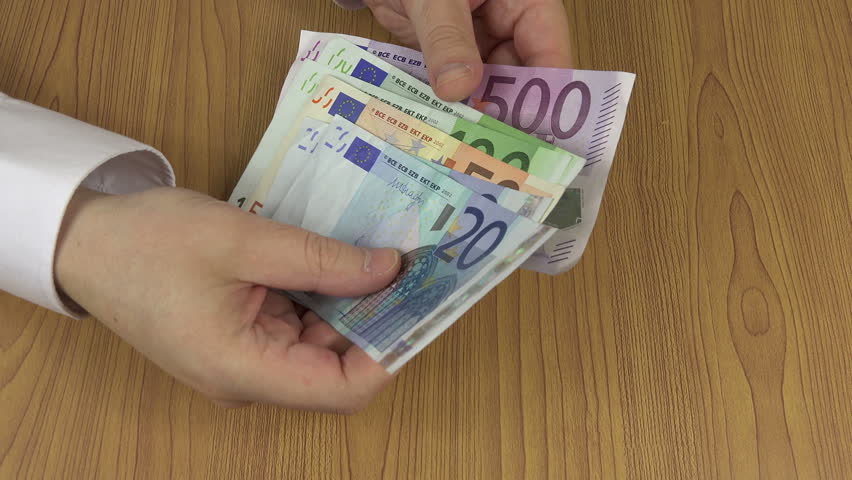billete: (219, 29, 639, 382)
